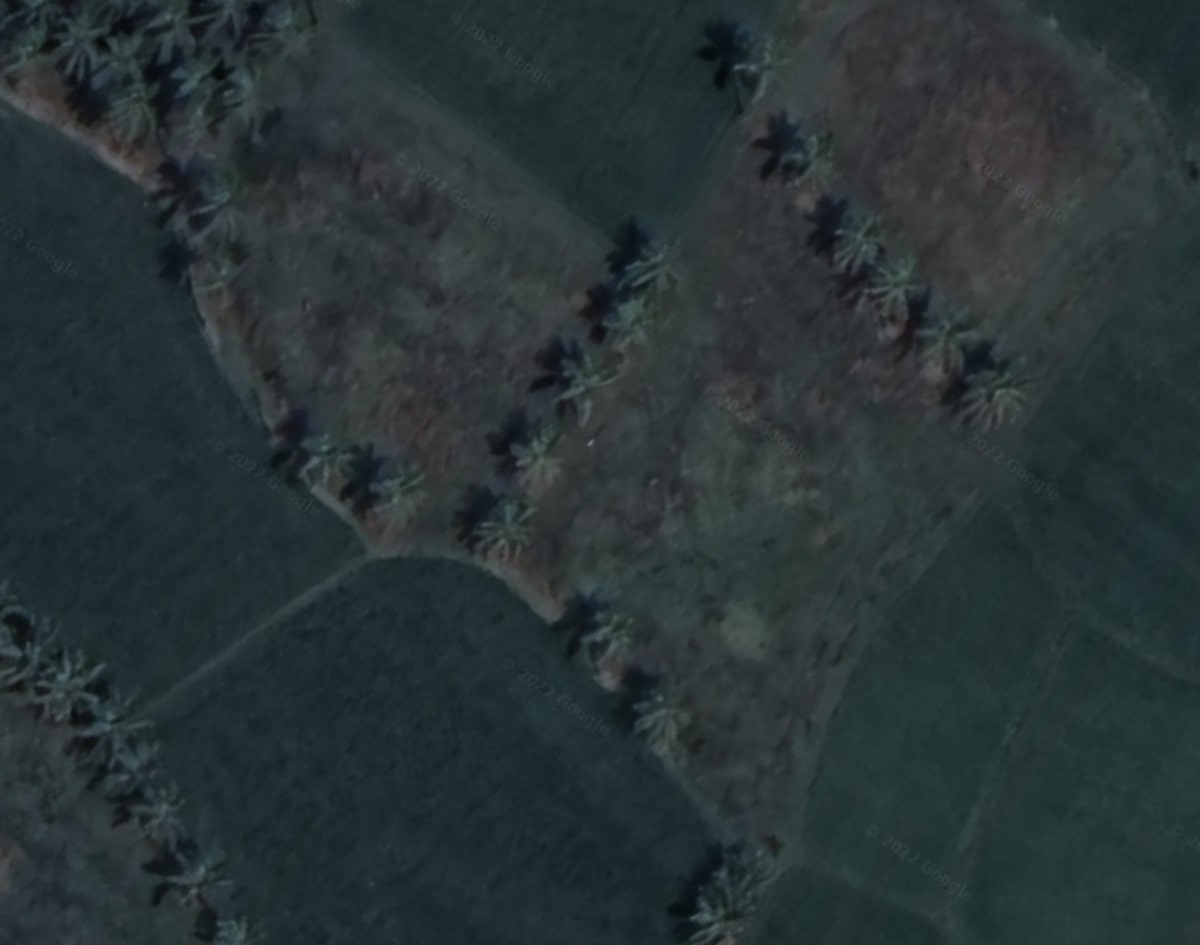coconut: (535, 339, 625, 423), (562, 601, 646, 690), (267, 416, 348, 505), (348, 453, 432, 538), (177, 163, 261, 248), (814, 202, 898, 281), (461, 493, 543, 572), (913, 309, 997, 386), (620, 223, 703, 300), (619, 682, 693, 768), (861, 260, 939, 339), (960, 355, 1029, 442), (28, 647, 107, 719), (719, 29, 792, 105), (774, 126, 843, 203), (495, 421, 571, 486), (202, 63, 278, 127), (157, 840, 233, 903), (98, 733, 173, 794), (126, 783, 195, 845), (73, 690, 146, 748), (705, 843, 774, 903), (600, 292, 654, 358), (695, 892, 755, 945)
